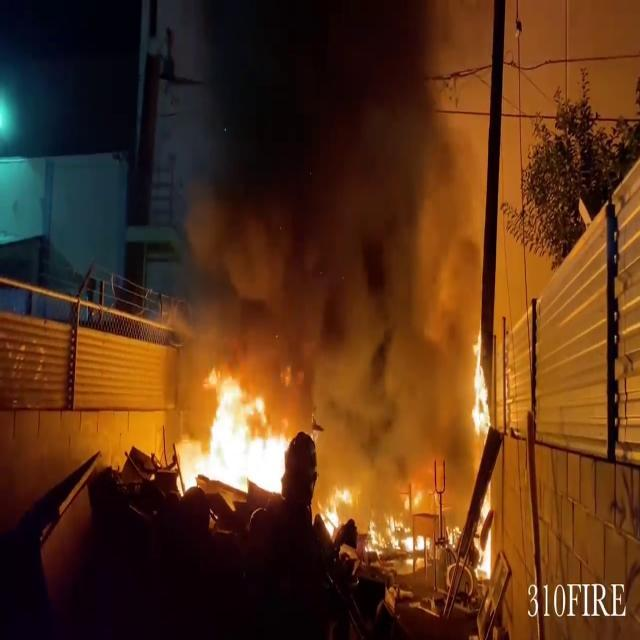Fire: (176, 363, 294, 502), (321, 472, 433, 568), (468, 324, 492, 440)
Smoke: (162, 1, 492, 430)
